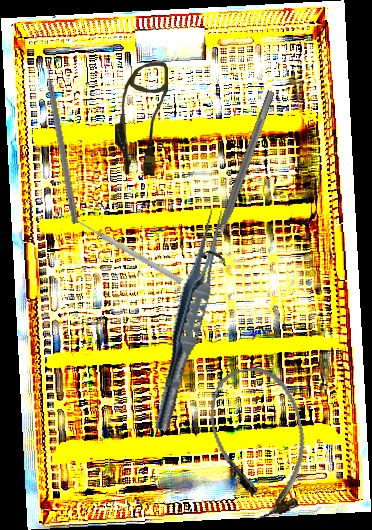Cannula: (200, 359, 321, 525), (115, 62, 168, 176)
Chopper: (42, 53, 88, 225)
Fixation Ring: (198, 86, 286, 267)
Pusher: (71, 215, 184, 285)
Tissue Forceps: (149, 204, 230, 434)
